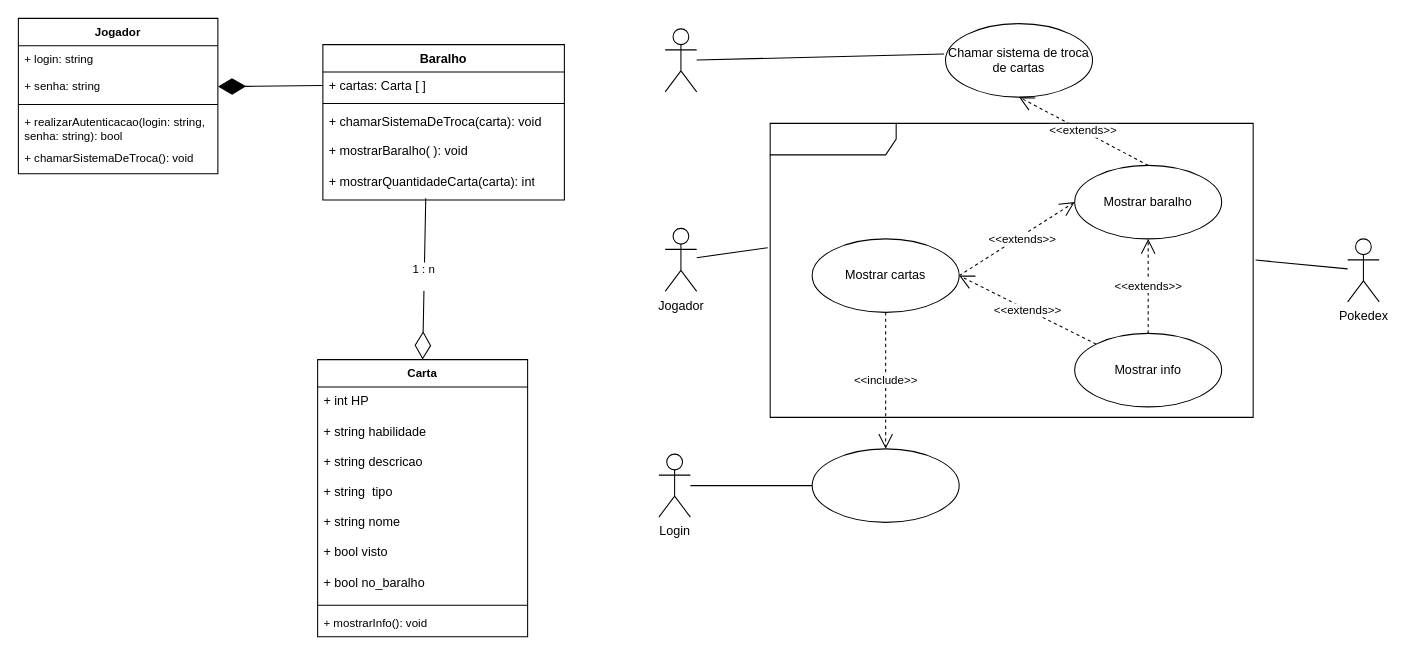
This 1406x658 diagram has some shape labels left out. The shapes that lost their labels are listed below. From the top down, each one's centre as x and y in pixels, then its label:
[680,60]: Troca de cartas
[1011,269]: Visualização dos pokemons
[885,485]: Realizar autenticação
